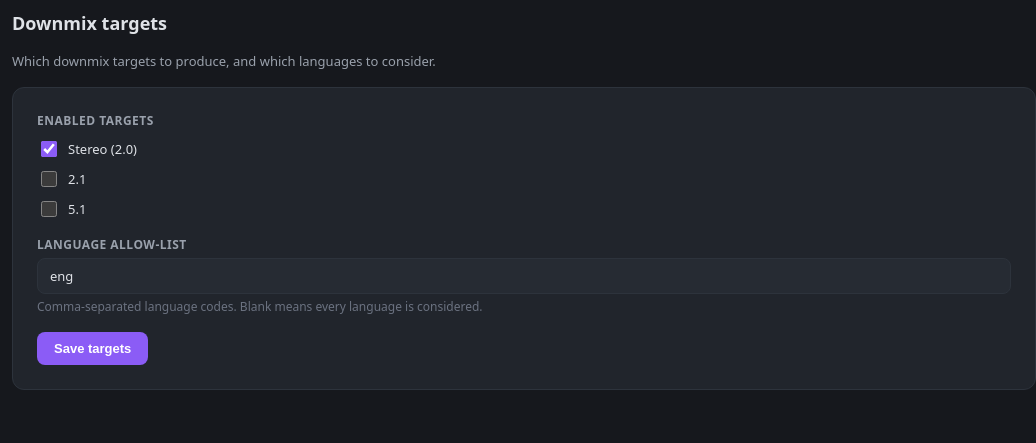
Test case: TargetsSection › surfaces an API error from a failed save
Expected: the field labelled "Language allow-list" is shown, [37,258,1011,294]
Click the button "Save targets".
click(93, 349)  # box [37,332,148,365]
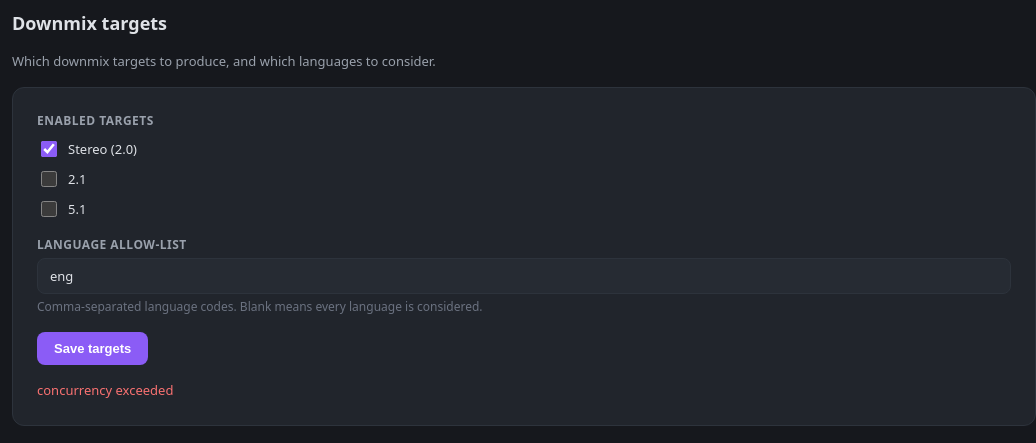
Expected: the text "concurrency exceeded" is shown, [37,381,173,399]
